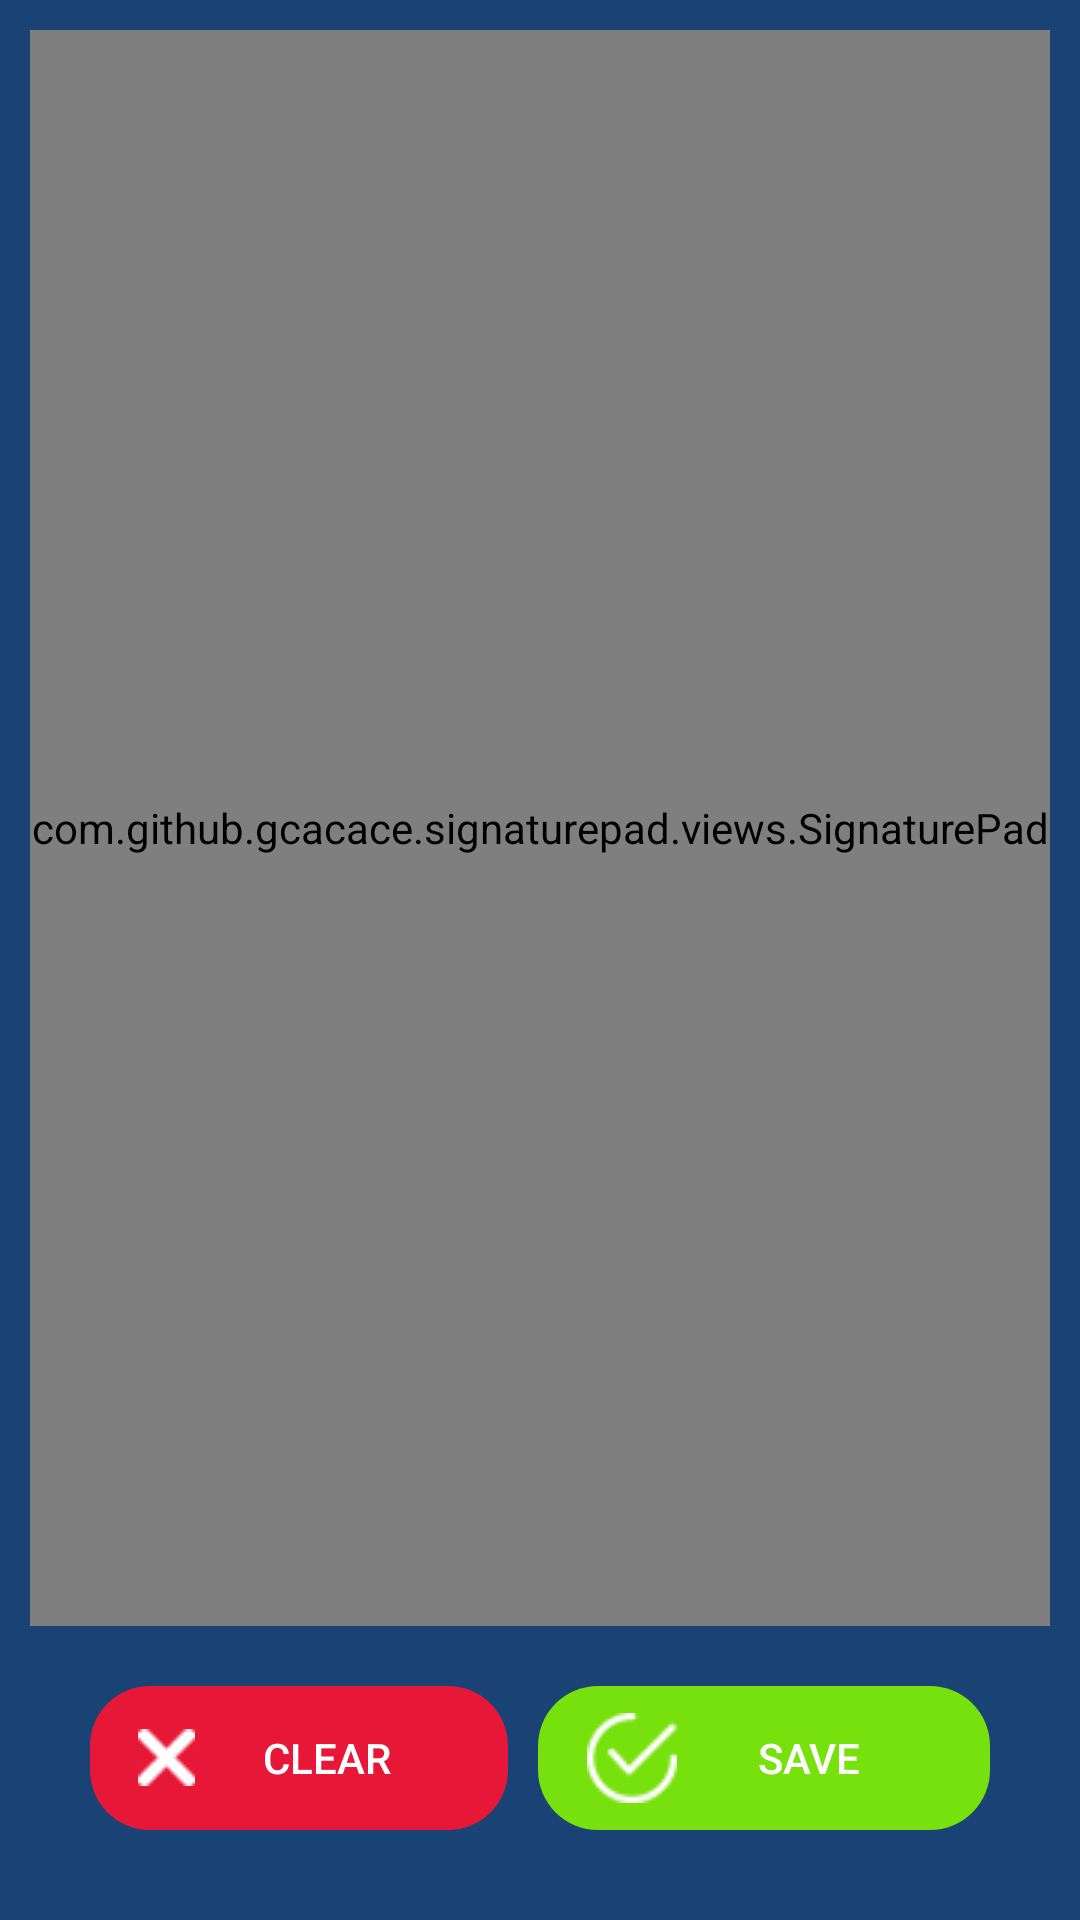

Locate icon controls on the screen. Image size 1080*1920, boxes as bbox(x1, y1, x2, y2).
cross: bbox(138, 1729, 195, 1786)
tick: bbox(587, 1713, 677, 1803)
